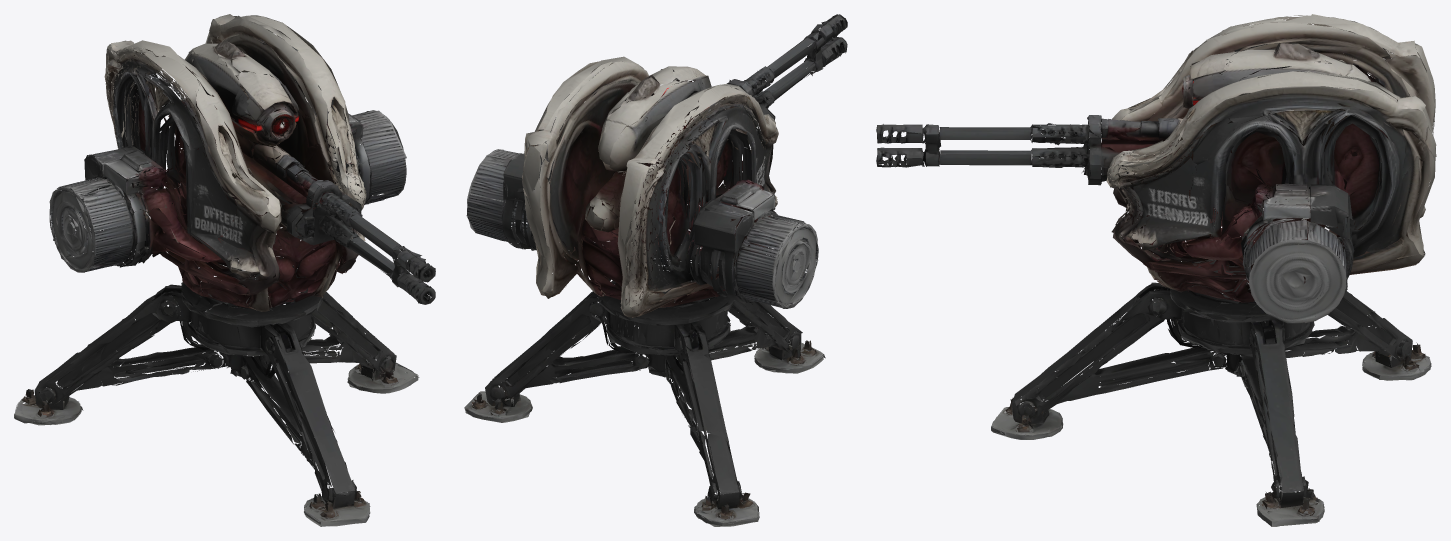
File: prop_camp_vesper_turret.glb
3 renders of one model, left to right at view 1: azimuth 30°, elevation 25°; view 2: azimuth 150°, elevation 25°; view 3: azimuth 270°, elevation 25°, orthographic. The views are drawn at different scales.
Parts seen in each view (by area): view 1: node_0; view 2: node_0; view 3: node_0.
Boxes of the visible parts, x1=… form: node_0: x1=14, y1=14, x2=435, y2=526; node_0: x1=464, y1=14, x2=847, y2=526; node_0: x1=876, y1=14, x2=1436, y2=526.
Bounding box in the file's own units: 0.6446 × 0.6687 × 0.8629.
1 material, 1 textured.
